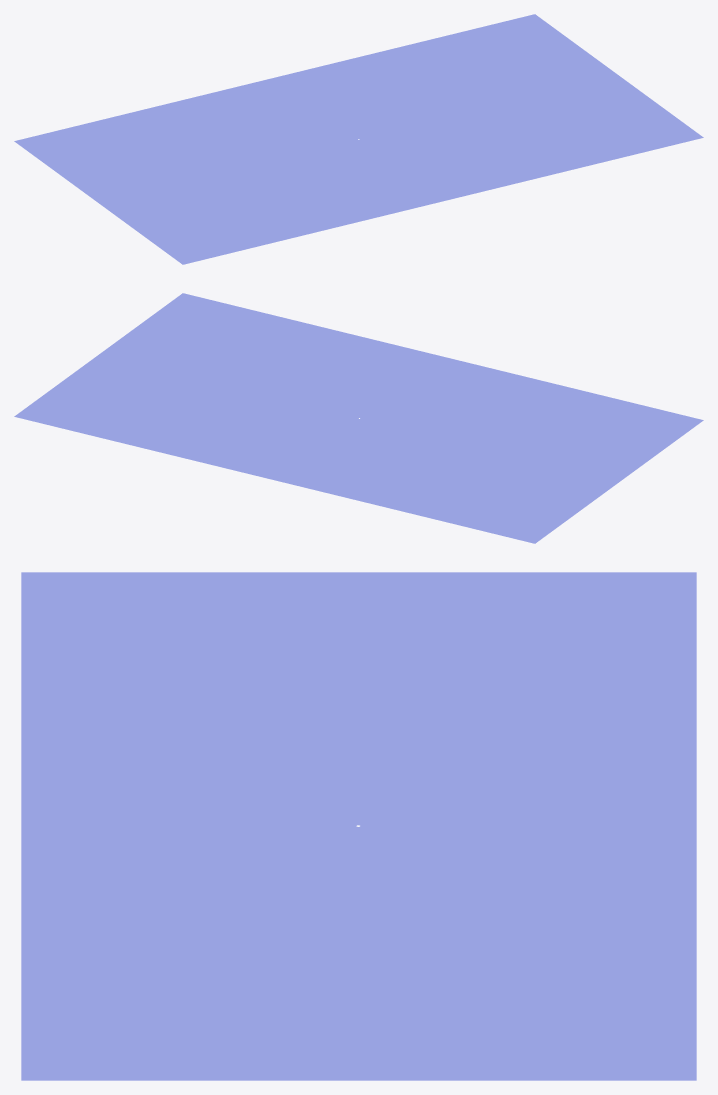
The model's file is Ice.gltf.
3 views of the same model, one above another, from view 1: azimuth 30°, elevation 25°; view 2: azimuth 150°, elevation 25°; view 3: azimuth 270°, elevation 25° (orthographic). The views are drawn at different scales.
Visible parts, largest first — view 1: ice; view 2: ice; view 3: ice.
Part boxes in pixels (bbox=[...]): ice: bbox=[14, 14, 703, 264]; ice: bbox=[14, 293, 703, 543]; ice: bbox=[21, 572, 696, 1080].
Size of the model in its own units: 371 by 7.45e-09 by 208.
Materials: 1 (1 with a texture image).
